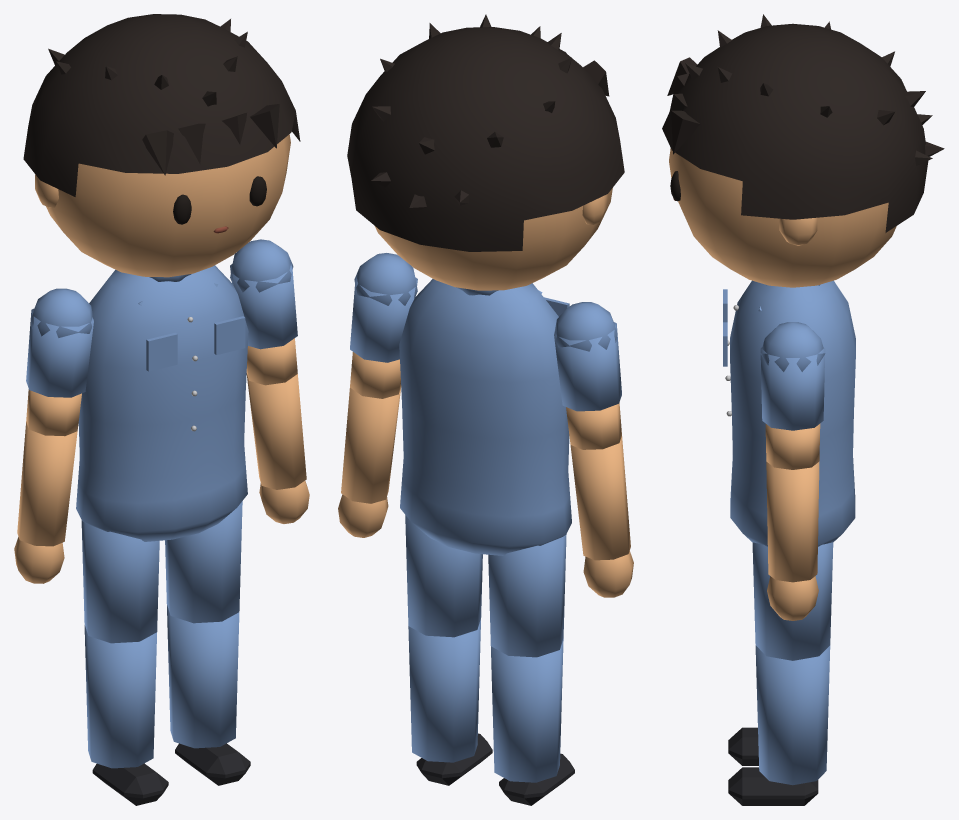
The model's file is era3_factory_man.glb.
The picture shows the model from 3 angles, left to right: view 1: azimuth 30°, elevation 25°; view 2: azimuth 150°, elevation 25°; view 3: azimuth 270°, elevation 25°; orthographic projection.
Visible parts, largest first — view 1: head, body, shin_L, shin_R, arm_R, leg_R, arm_L, forearm_R, leg_L, forearm_L; view 2: head, body, shin_L, shin_R, arm_R, leg_R, arm_L, forearm_R, leg_L, forearm_L; view 3: head, body, shin_L, arm_L, forearm_L, leg_L, shin_R.
Part boxes in pixels (x1,y1,x2,y2): head: (23, 14, 300, 277); body: (76, 265, 248, 541); shin_L: (167, 605, 250, 785); shin_R: (84, 625, 168, 805); arm_R: (26, 288, 93, 436); leg_R: (81, 520, 159, 643); arm_L: (230, 239, 297, 385); forearm_R: (14, 422, 77, 583); leg_L: (165, 501, 242, 623); forearm_L: (246, 373, 309, 523); head: (347, 14, 624, 290); body: (399, 279, 571, 555); shin_L: (408, 619, 492, 785); shin_R: (491, 638, 574, 805); arm_R: (554, 302, 621, 449); leg_R: (488, 534, 566, 657); arm_L: (350, 253, 417, 398); forearm_R: (570, 436, 633, 597); leg_L: (405, 515, 482, 637); forearm_L: (338, 386, 401, 537); head: (662, 14, 944, 287); body: (723, 280, 855, 546); shin_L: (728, 645, 830, 805); arm_L: (760, 322, 825, 469); forearm_L: (766, 461, 819, 620); leg_L: (752, 542, 833, 660); shin_R: (728, 727, 758, 765).
Size of the model in its own units: 0.5995 by 1.48 by 0.5093.
